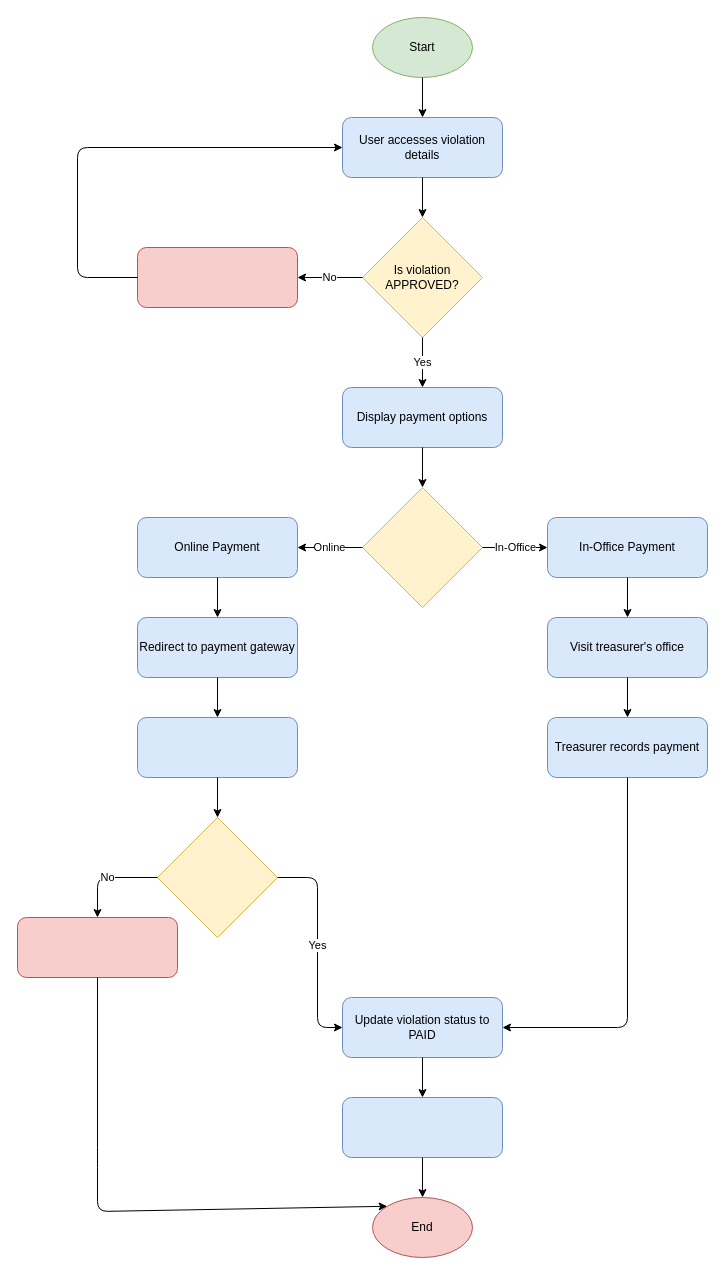
Some shapes in this 725 by 1275 pixel diagram are drawn without their labels. Each missing label, with the centre of its shape:
"Display message: Cannot pay at this time" belongs at point 217,277.
"Display payment failure message" belongs at point 97,947.
"Generate receipt" belongs at point 422,1127.
"Payment successful?" belongs at point 217,877.
"Process payment through gateway" belongs at point 217,747.
"User selects payment method" belongs at point 422,547.
